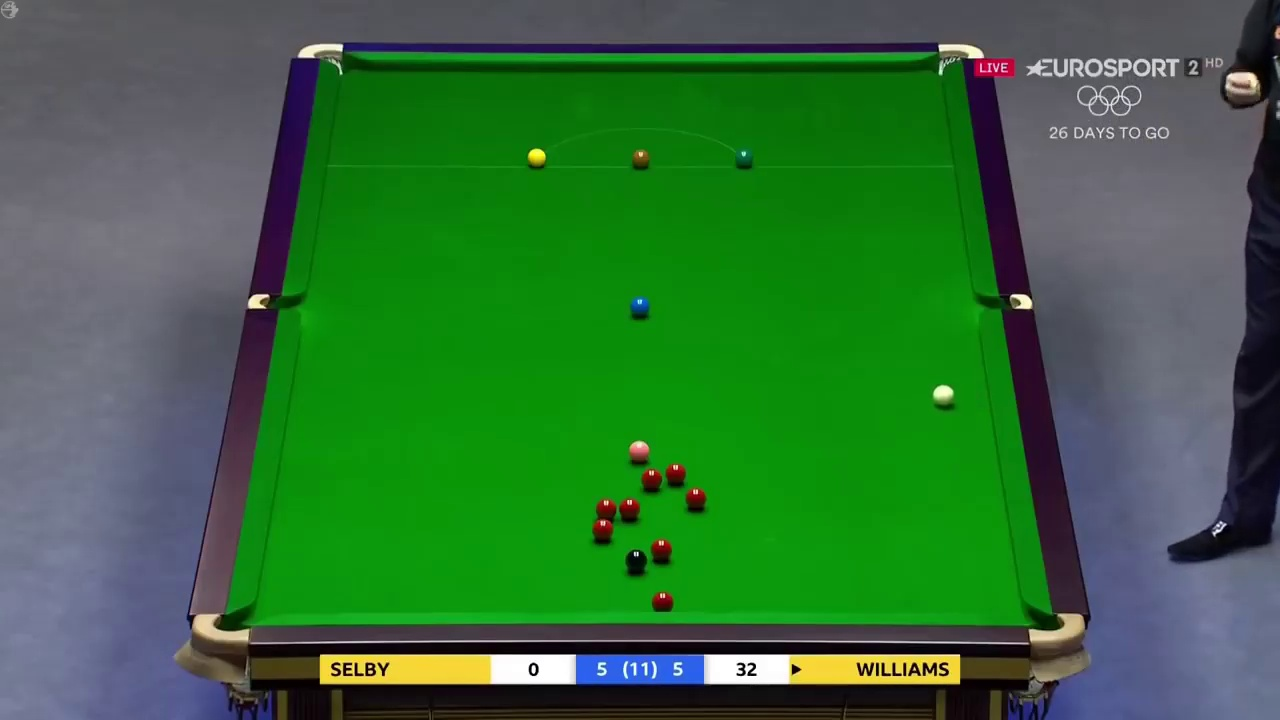black: (625, 550, 647, 576)
blue: (628, 296, 650, 316)
brown: (632, 150, 648, 168)
green: (735, 147, 753, 165)
pink: (628, 440, 649, 460)
red: (590, 516, 613, 541), (651, 537, 673, 563), (650, 592, 673, 612), (620, 498, 641, 519), (639, 470, 662, 489)
white: (931, 386, 956, 406)
yellow: (526, 149, 545, 168)
